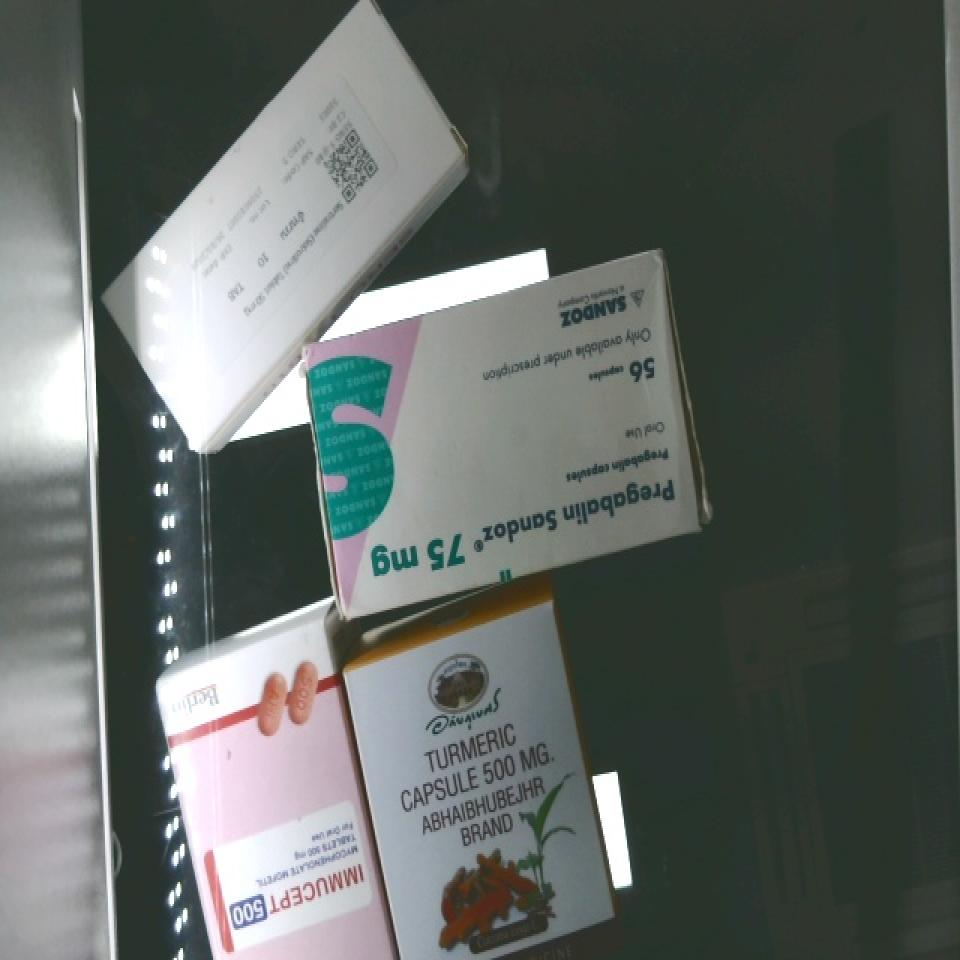medicine_box: (67, 0, 495, 449), (272, 255, 732, 624), (335, 592, 618, 960), (149, 623, 395, 960)
medicine_label_obb: (348, 448, 701, 600), (366, 691, 590, 882), (206, 834, 381, 950)
qr_code: (295, 105, 411, 220)
